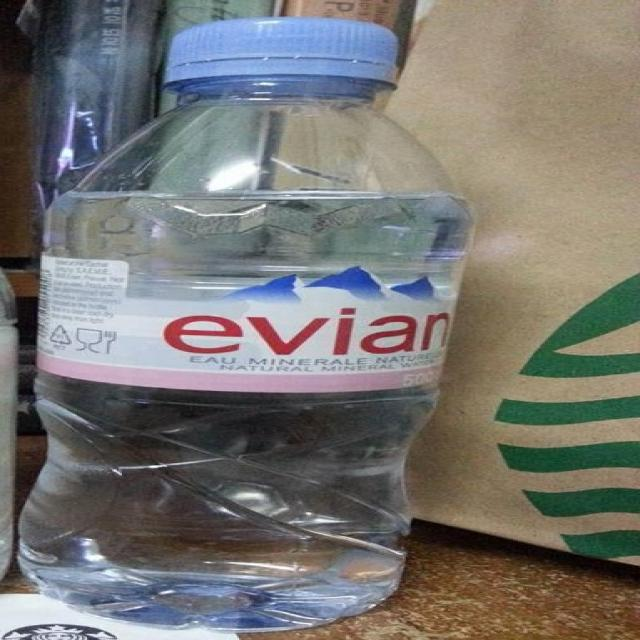high: (18, 18, 471, 632)
